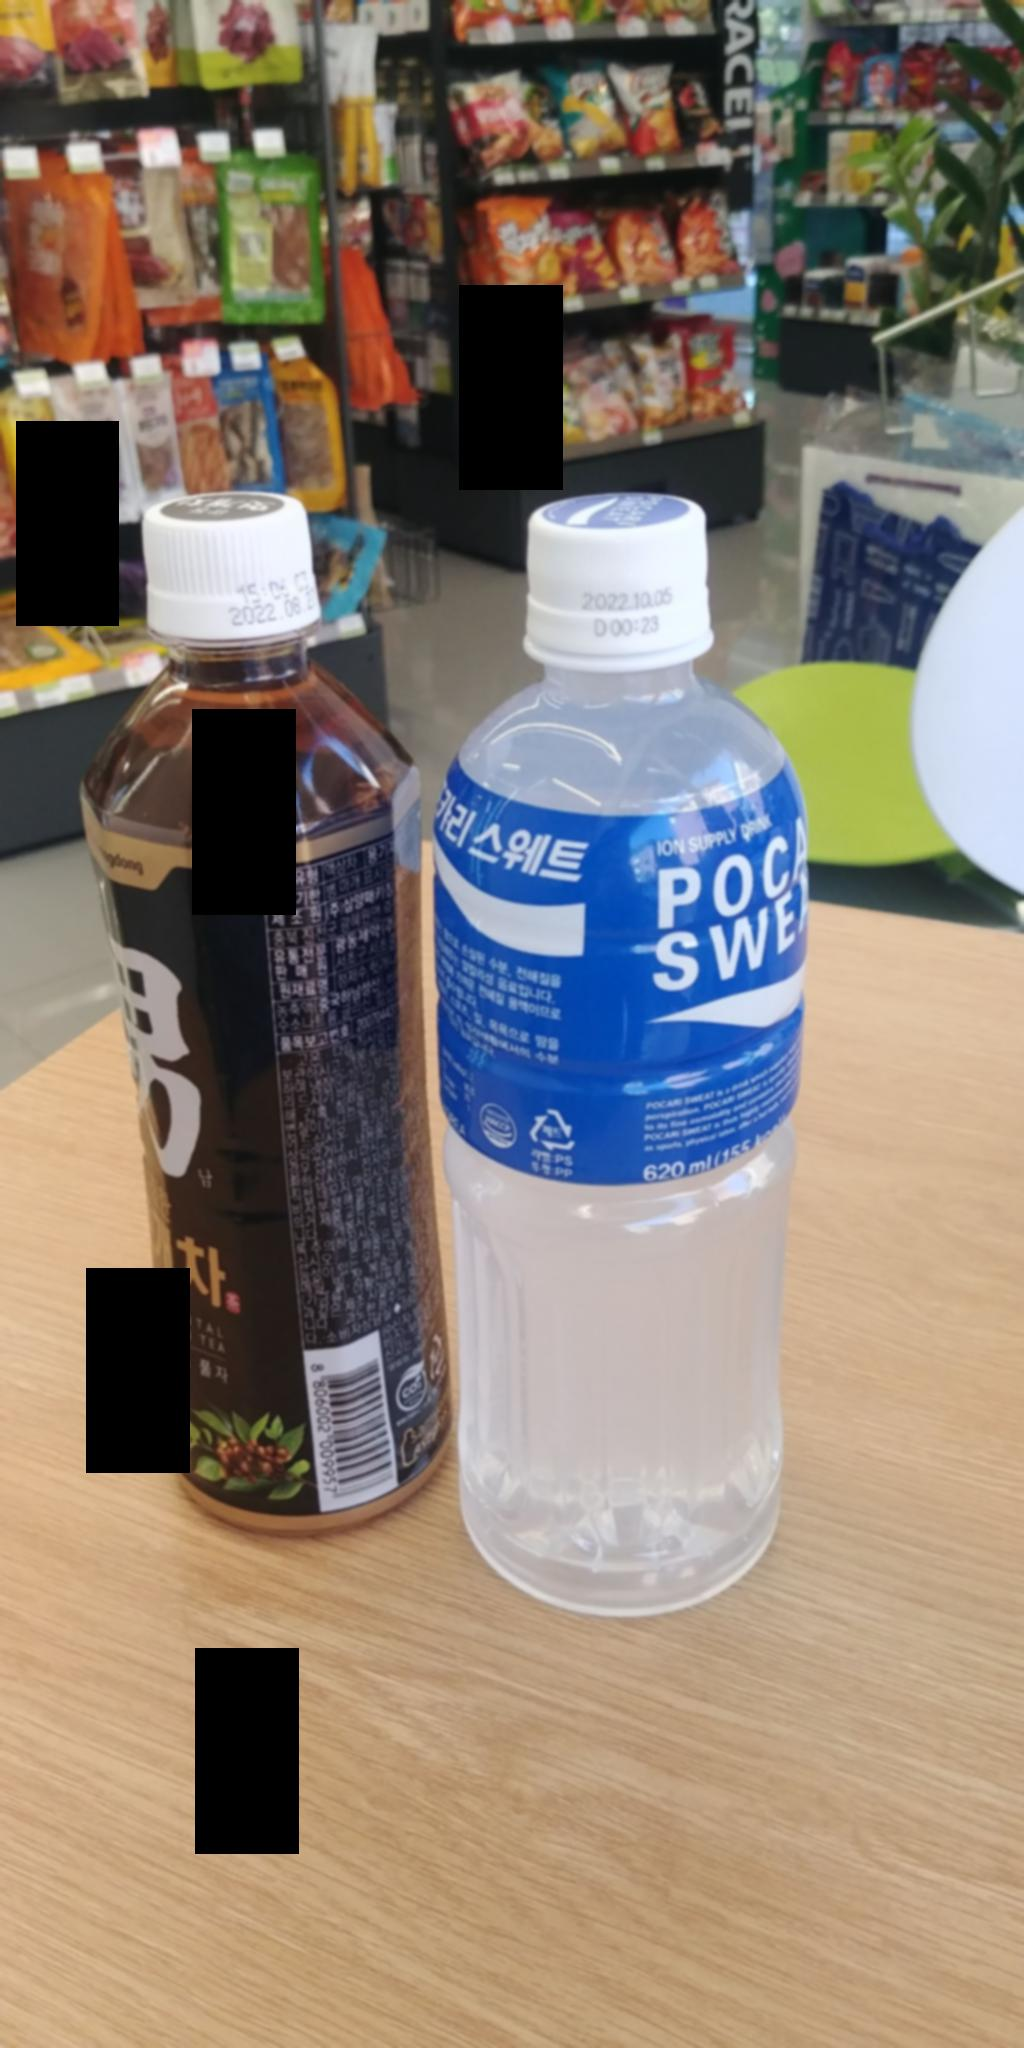heotgaecha: (64, 475, 478, 1565)
pocarisweat: (377, 481, 831, 1646)
